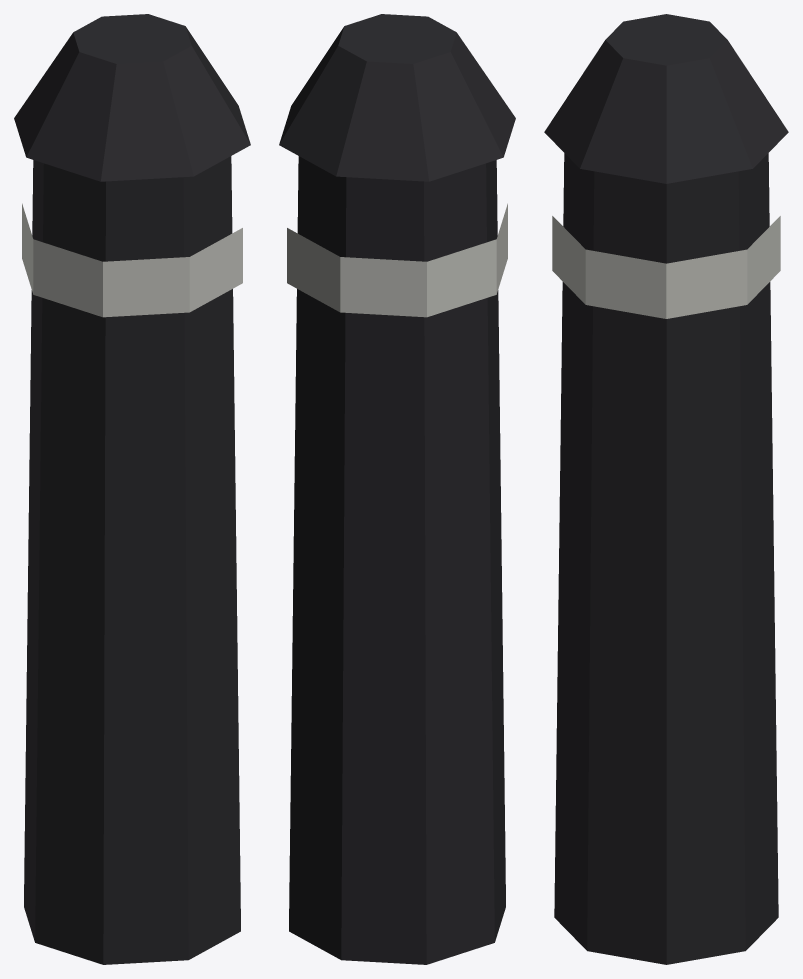
Rendered from town_bollard.gltf.
3 renders of one model, left to right at view 1: azimuth 30°, elevation 25°; view 2: azimuth 150°, elevation 25°; view 3: azimuth 270°, elevation 25°, orthographic.
Visible parts, largest first — view 1: TownBollard_Bollard, TownBollard_Band; view 2: TownBollard_Bollard, TownBollard_Band; view 3: TownBollard_Bollard, TownBollard_Band.
Part boxes in pixels (x1,y1,x2,y2): TownBollard_Bollard: [14, 14, 250, 964]; TownBollard_Band: [22, 203, 242, 317]; TownBollard_Bollard: [279, 14, 515, 964]; TownBollard_Band: [287, 203, 507, 317]; TownBollard_Bollard: [544, 14, 788, 964]; TownBollard_Band: [552, 216, 780, 318].
Size of what is drawn, in the model's own units: 0.24 by 0.95 by 0.24.
1 material, 1 textured.
